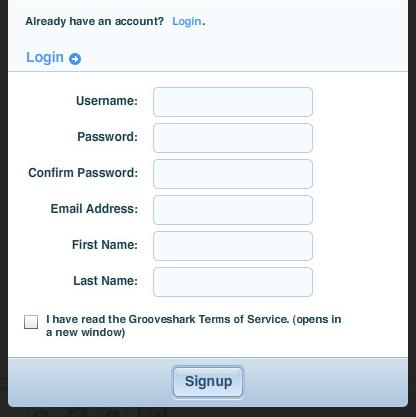button: (170, 364, 244, 400)
checkbox: (21, 311, 42, 332)
checkbox_with_label: (16, 308, 343, 337)
field: (150, 193, 314, 226), (150, 229, 314, 262), (152, 157, 315, 190), (150, 85, 316, 117), (150, 121, 316, 153), (150, 266, 315, 298)
field_with_label: (29, 154, 318, 191), (70, 226, 317, 264), (50, 192, 317, 227), (74, 83, 318, 119), (76, 119, 318, 155), (72, 266, 318, 300)
